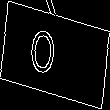O_S: (40, 26, 70, 84)
